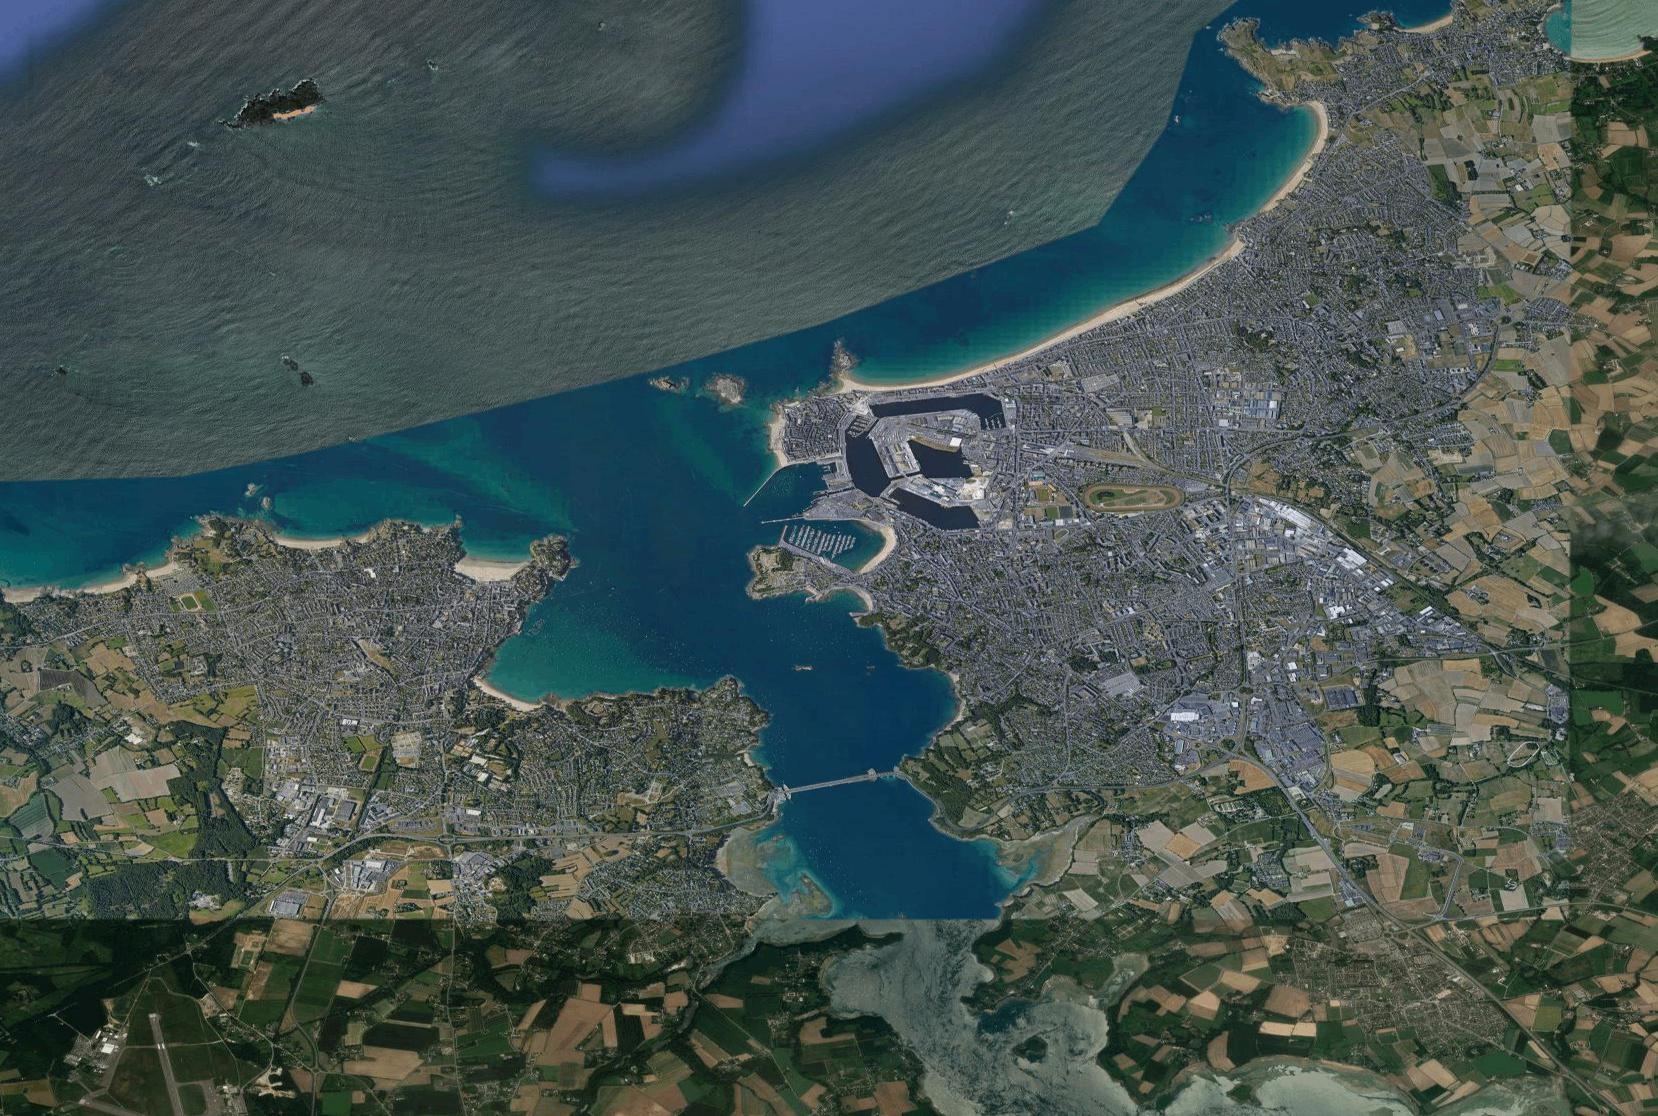bridge: (782, 766, 899, 793)
harbor: (845, 404, 1013, 528), (770, 507, 886, 575)
